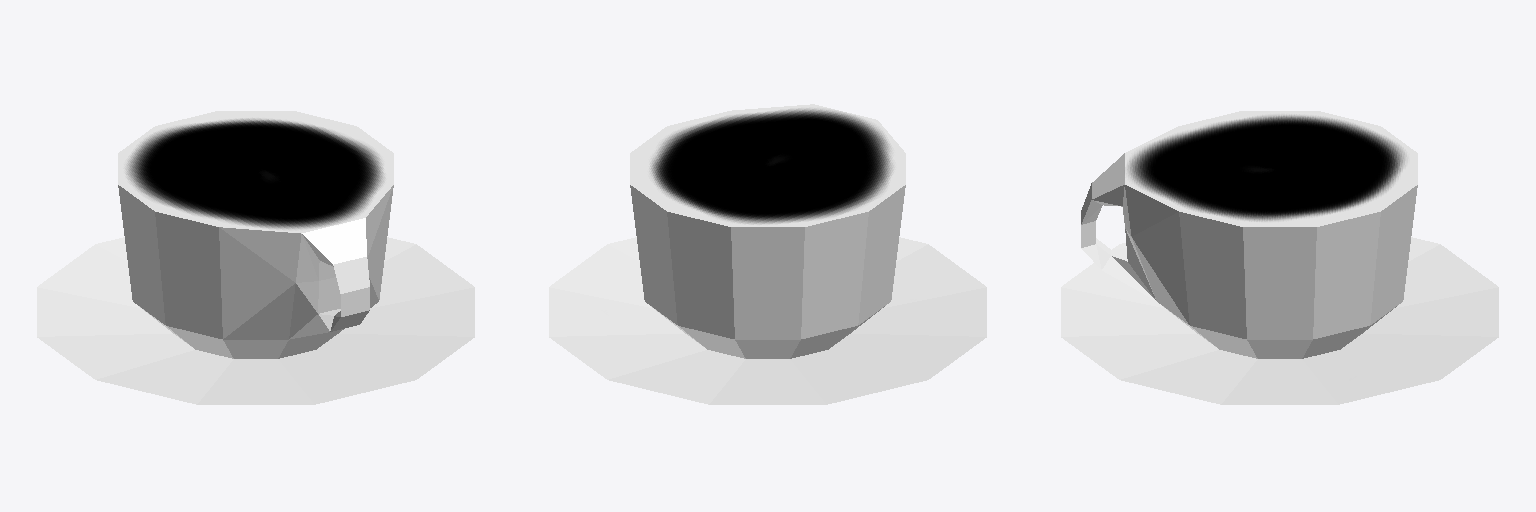
3 renders of one model, left to right at view 1: azimuth 30°, elevation 25°; view 2: azimuth 150°, elevation 25°; view 3: azimuth 270°, elevation 25°, orthographic.
Bounding box in the file's own units: 1.93 × 0.8461 × 1.93.
Materials: 1 (1 with a texture image).